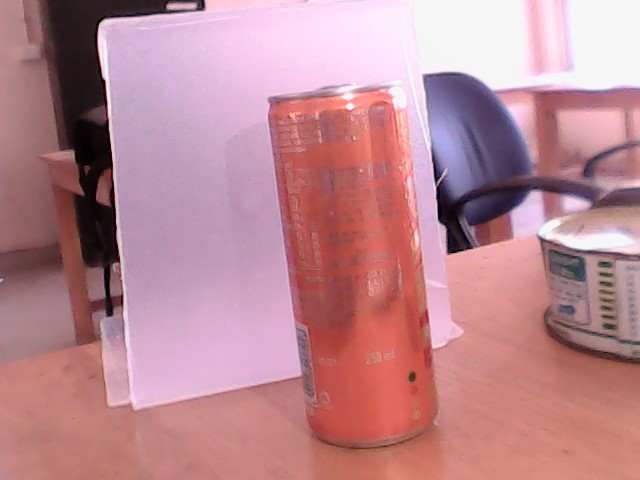Metal: (254, 84, 441, 450)
